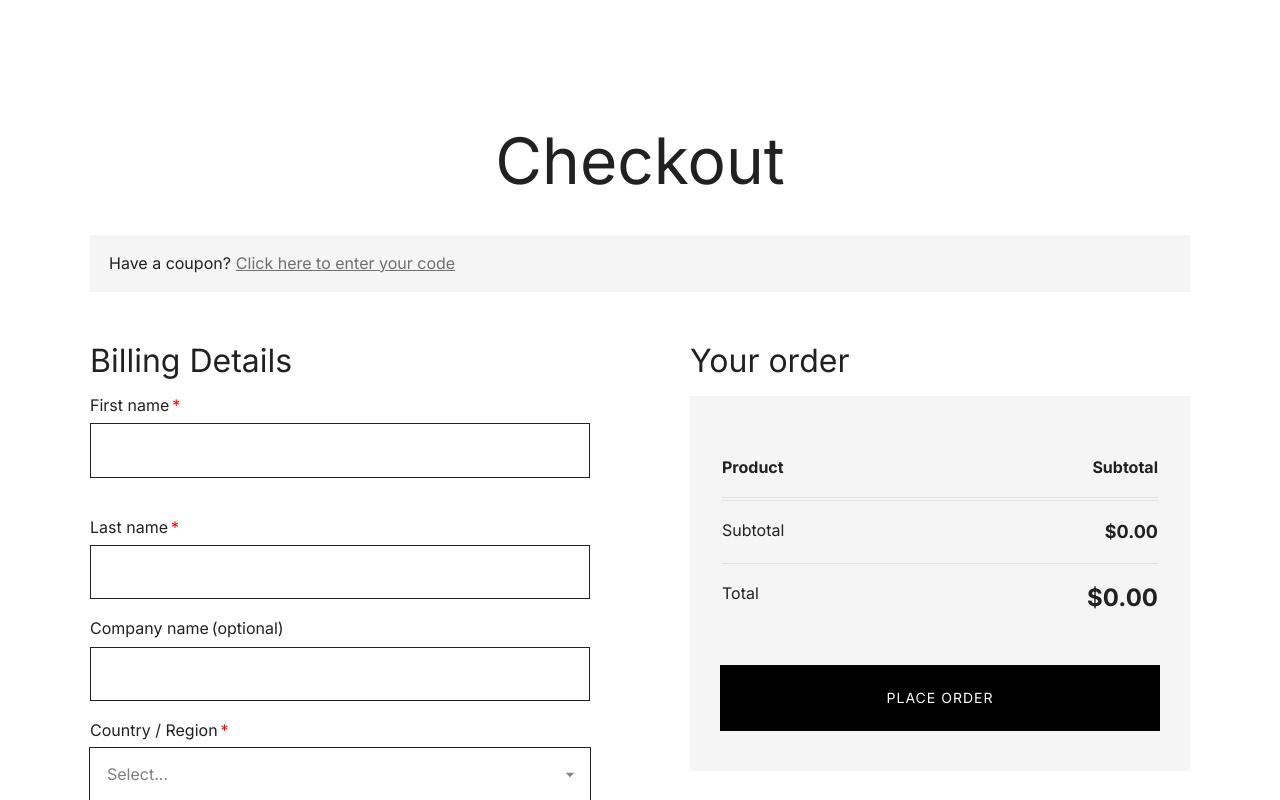
it: Checkout › should display an error message if first name is not valid
The image size is (1280, 800).
Step 1. Type "anz%$_+-&!" into the field labelled "First name*" → [340, 451], box [90,423,590,478]
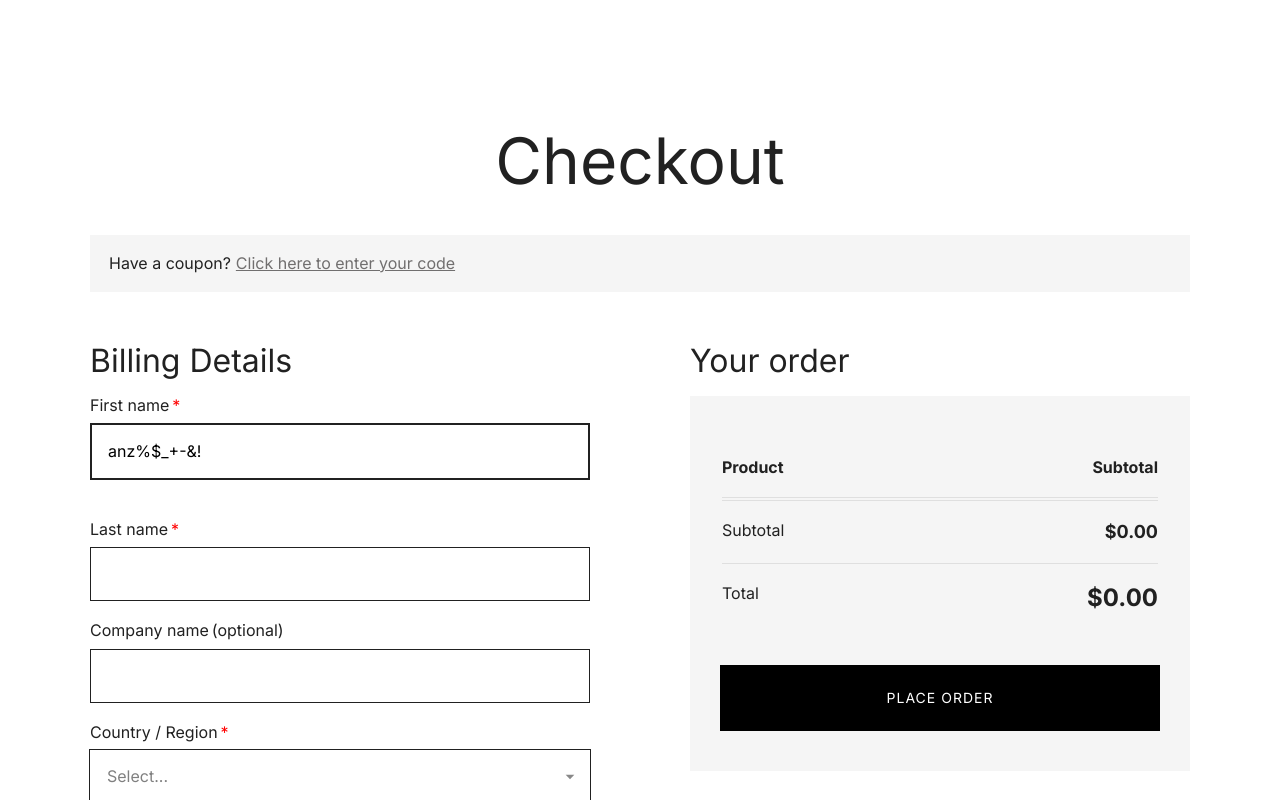
Step 2. Click the button "PLACE ORDER" → [940, 698], box [720,665,1160,731]
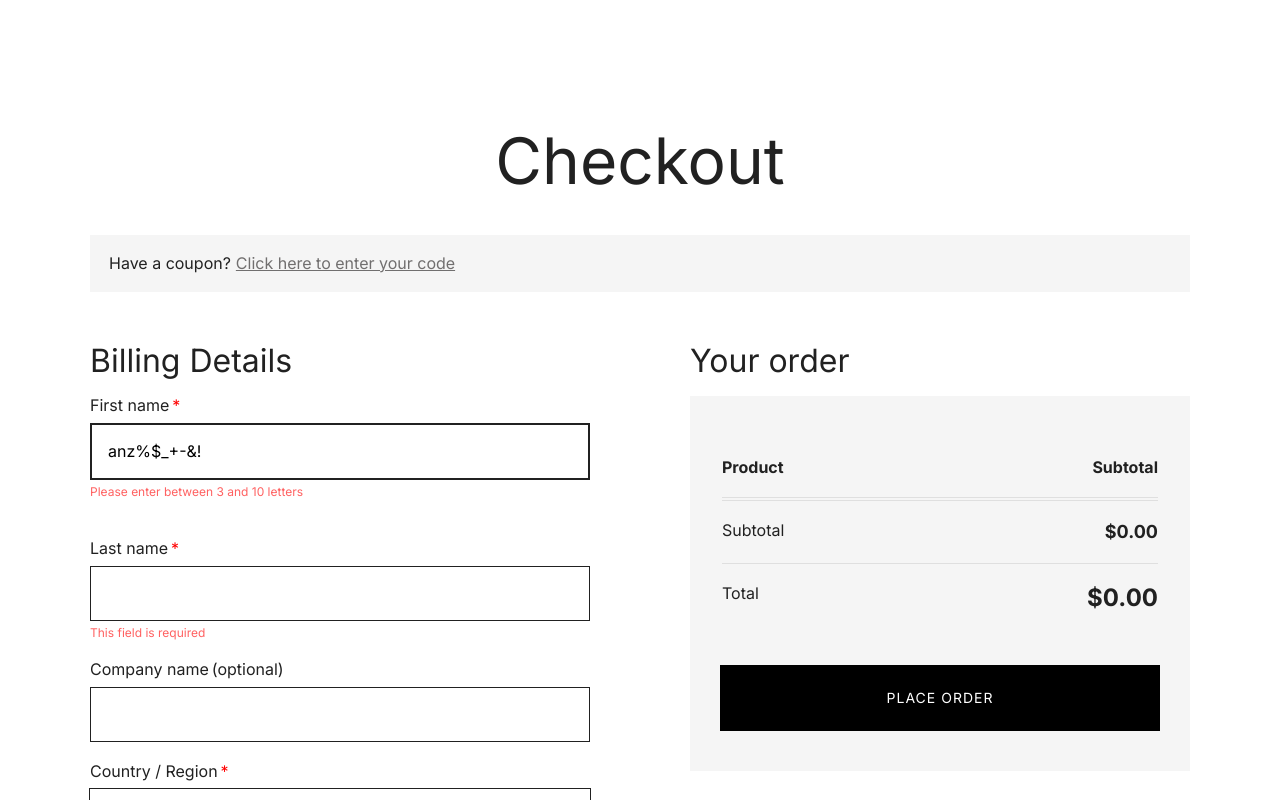
Now the text "Please enter between 3 and 10 letters" is shown, box [90,484,303,499]
